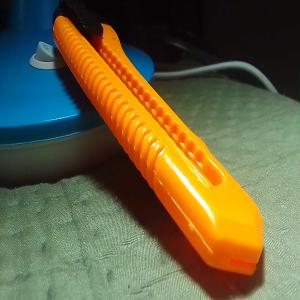estilete: (52, 0, 264, 276)
